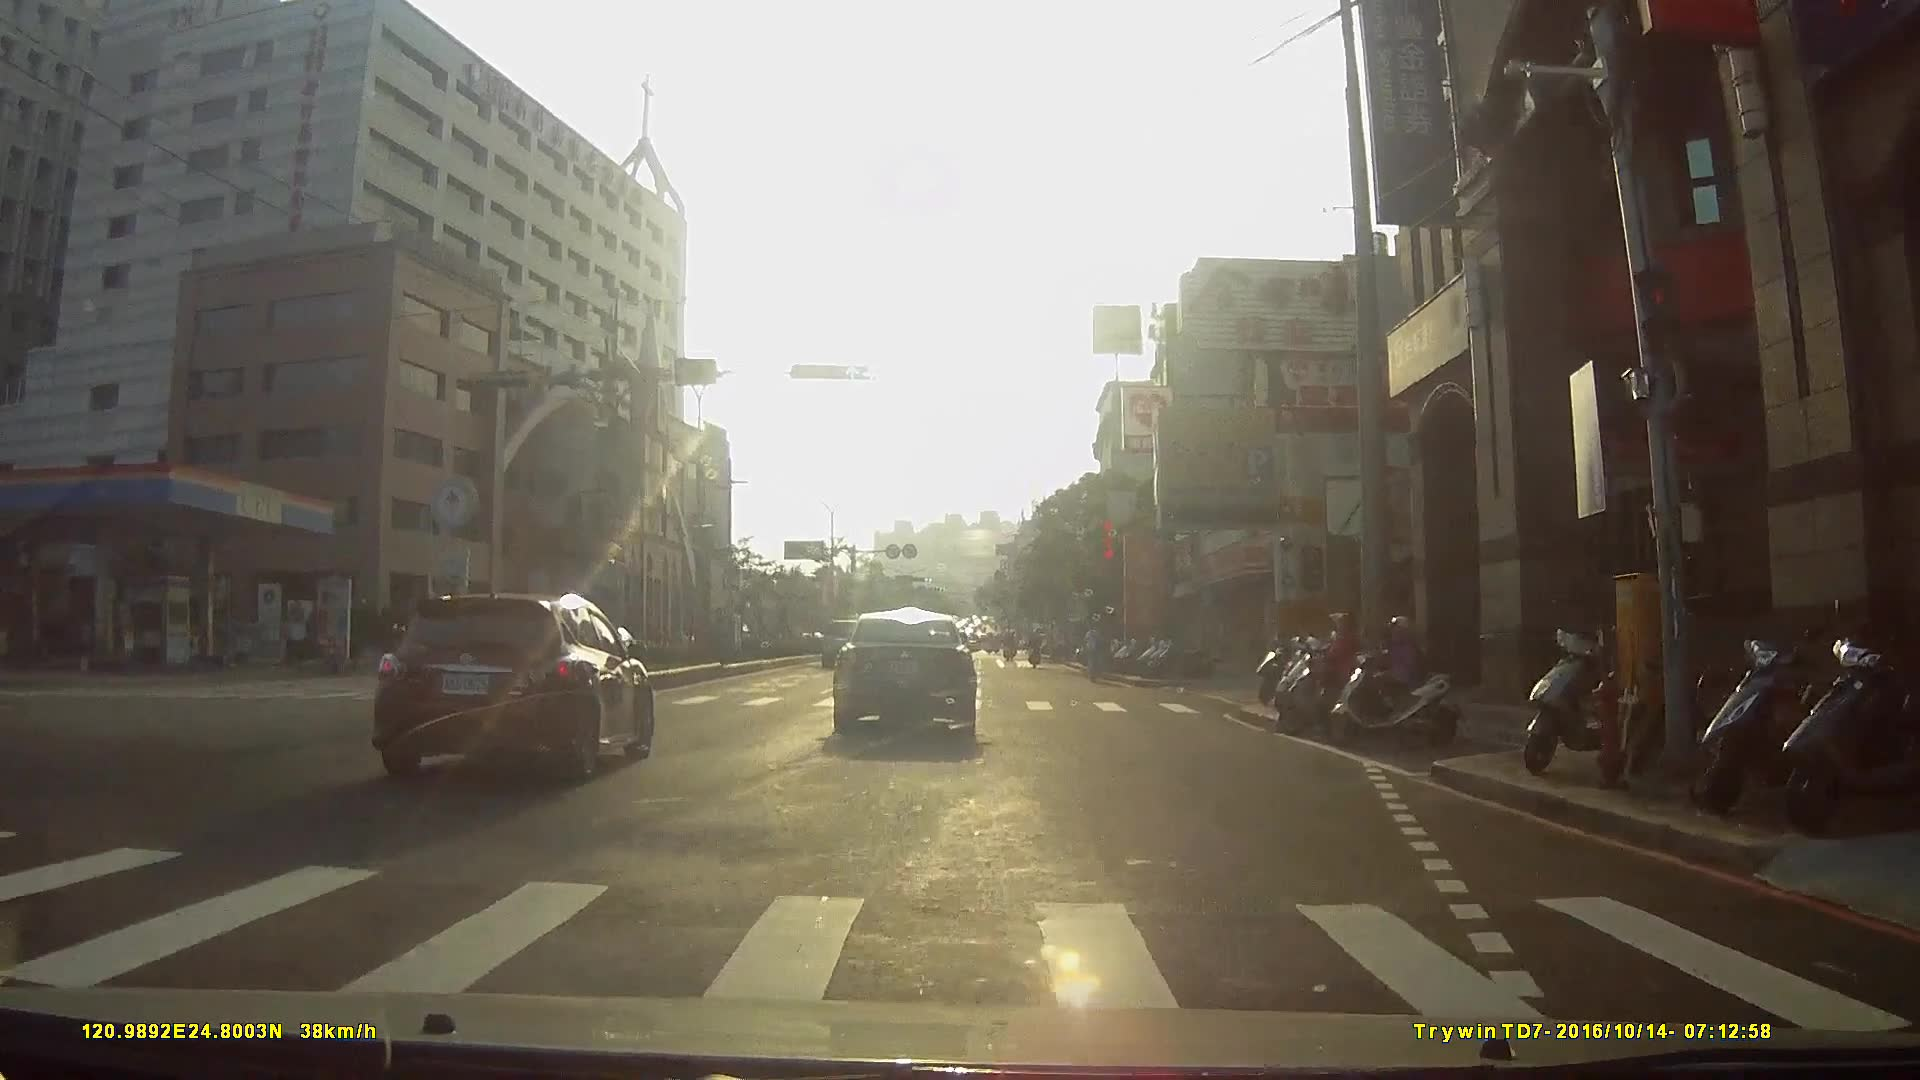rider: (1322, 607, 1467, 758), (1268, 609, 1380, 730)
vehicle: (369, 584, 663, 784), (835, 604, 998, 745), (763, 607, 822, 662)
